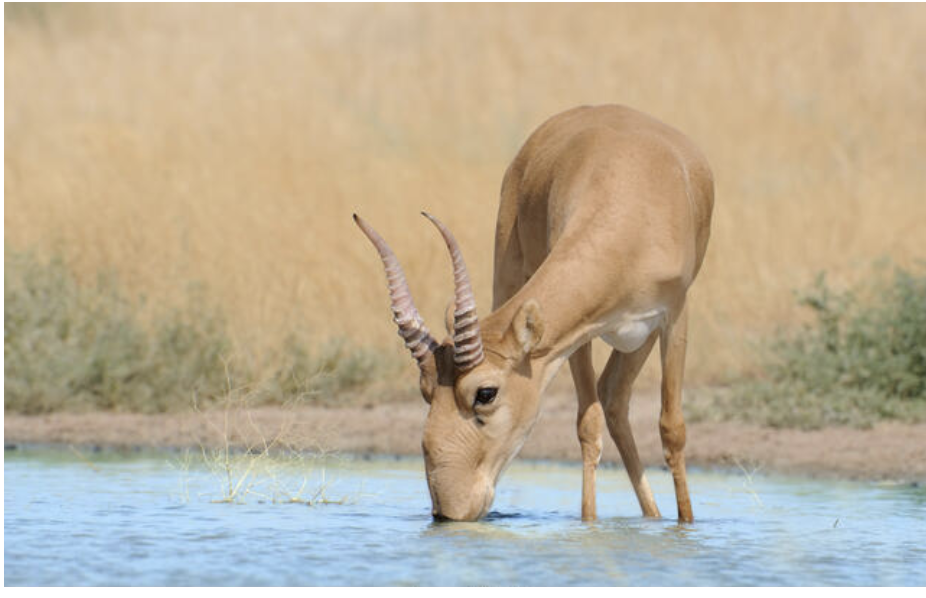saiga: (348, 74, 712, 584)
